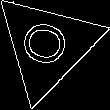O_E: (17, 19, 77, 73)
